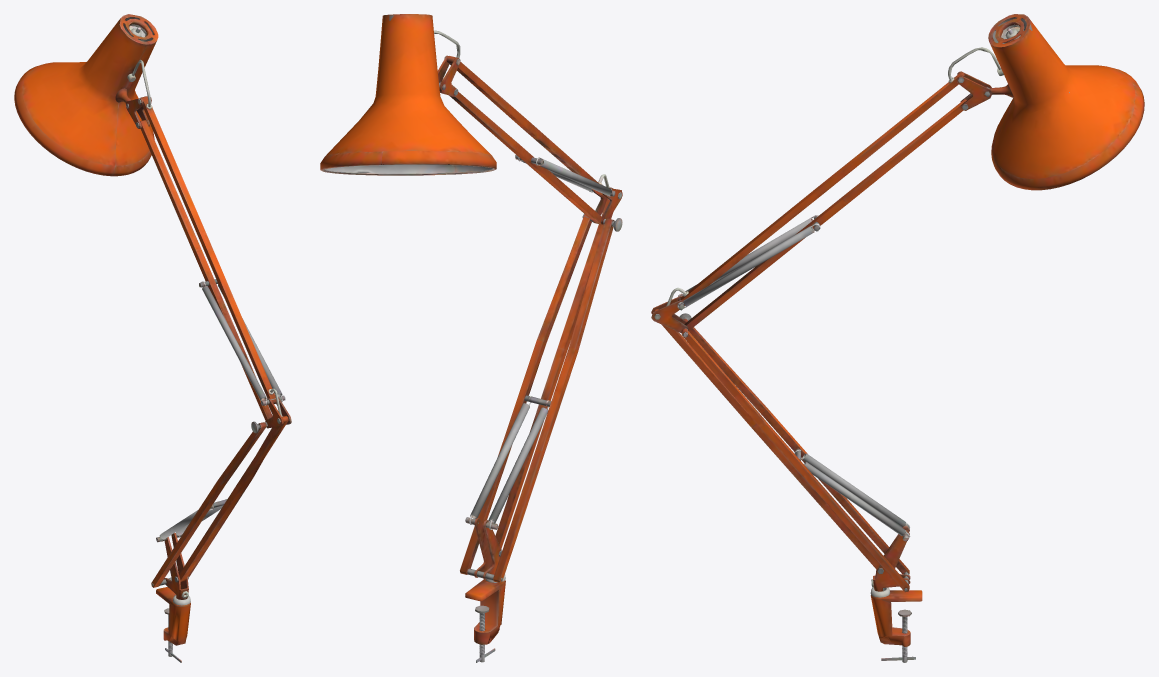
Rendered from desk_lamp_arm_01.glb.
3 views of the same model, side by side, from view 1: azimuth 30°, elevation 25°; view 2: azimuth 150°, elevation 25°; view 3: azimuth 270°, elevation 25° (orthographic). The views are drawn at different scales.
Parts seen in each view (by area): view 1: desk_lamp_arm_01; view 2: desk_lamp_arm_01; view 3: desk_lamp_arm_01.
Boxes of the visible parts, x1,y1,x2,y2 form: desk_lamp_arm_01: [14, 14, 291, 662]; desk_lamp_arm_01: [320, 14, 622, 662]; desk_lamp_arm_01: [651, 14, 1144, 662].
Size of the model in its own units: 0.2017 by 0.8926 by 0.6139.
Materials: 2 (2 with a texture image).
